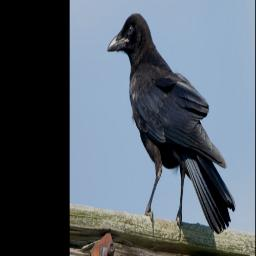Crow: (107, 13, 236, 234)
